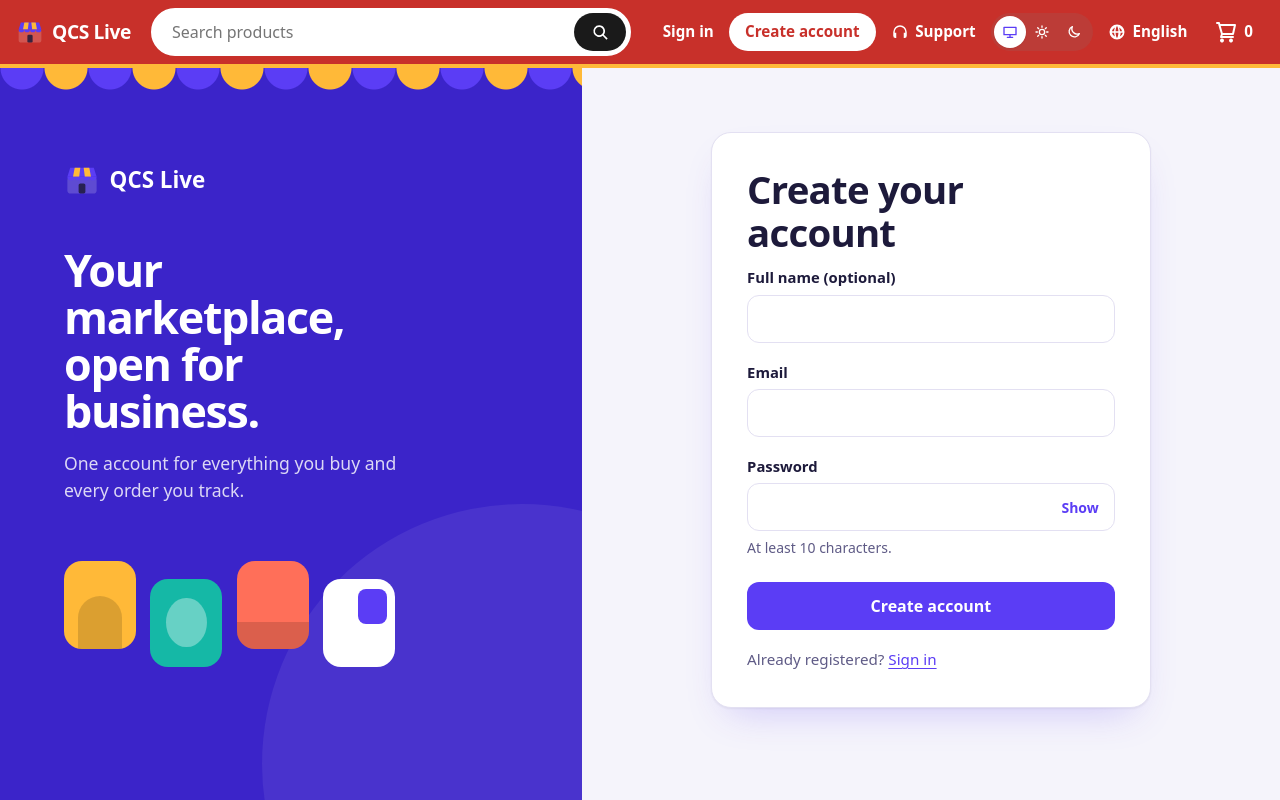
it: registration › shows the check-your-email confirmation on success
The image size is (1280, 800).
Type "jane@example.com" into the field labelled "Email". click: (931, 413)
box: [747,389,1115,437]
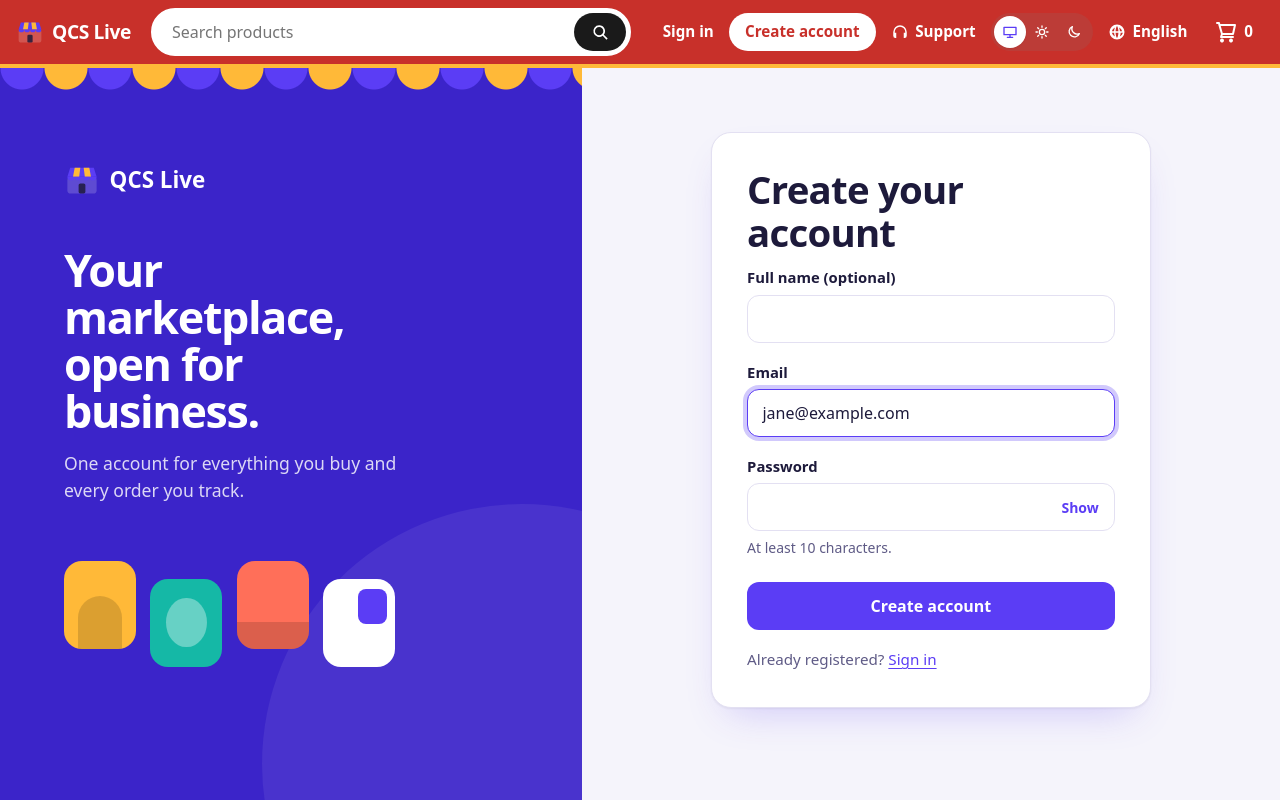
Type "a-reasonably-long-passphrase" into the password field labelled "Password". click: (931, 507)
box: [747,483,1115,531]
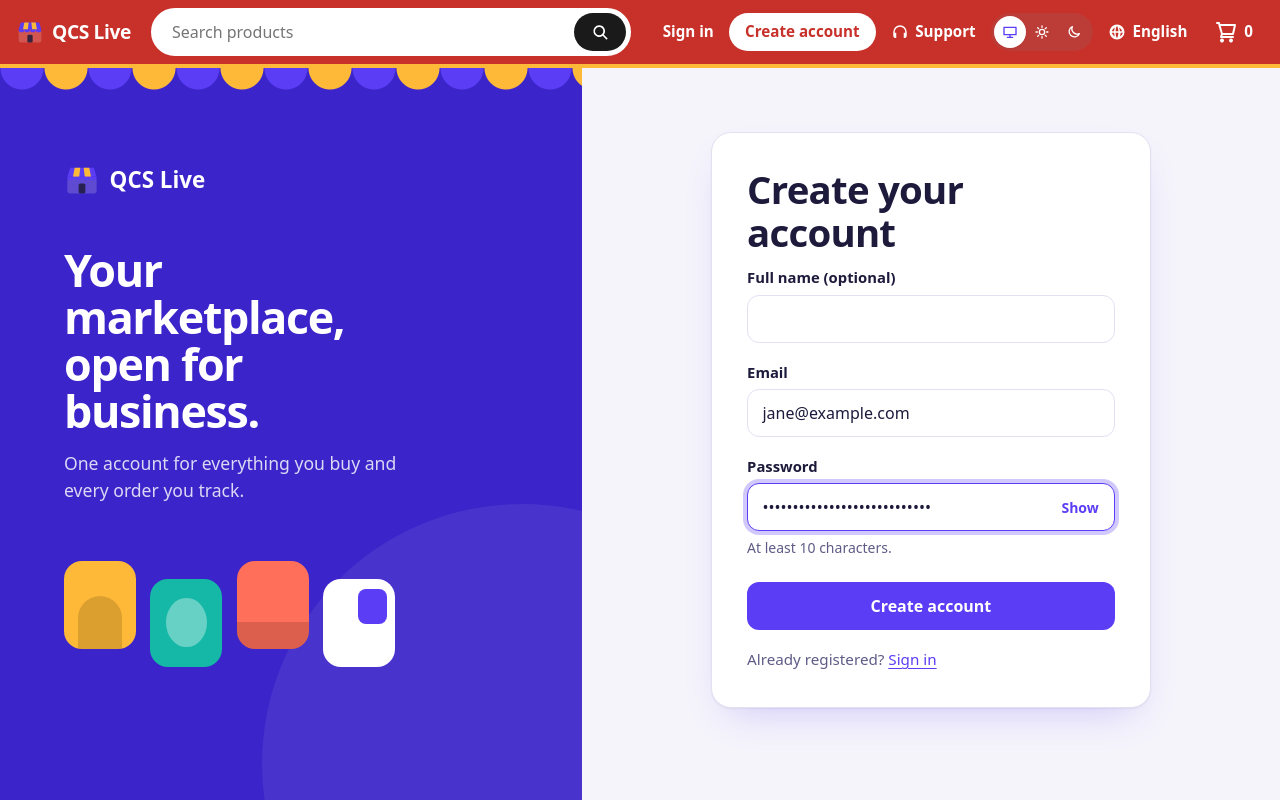
Click the button "Create account". click: (931, 606)
box: [747,582,1115,630]
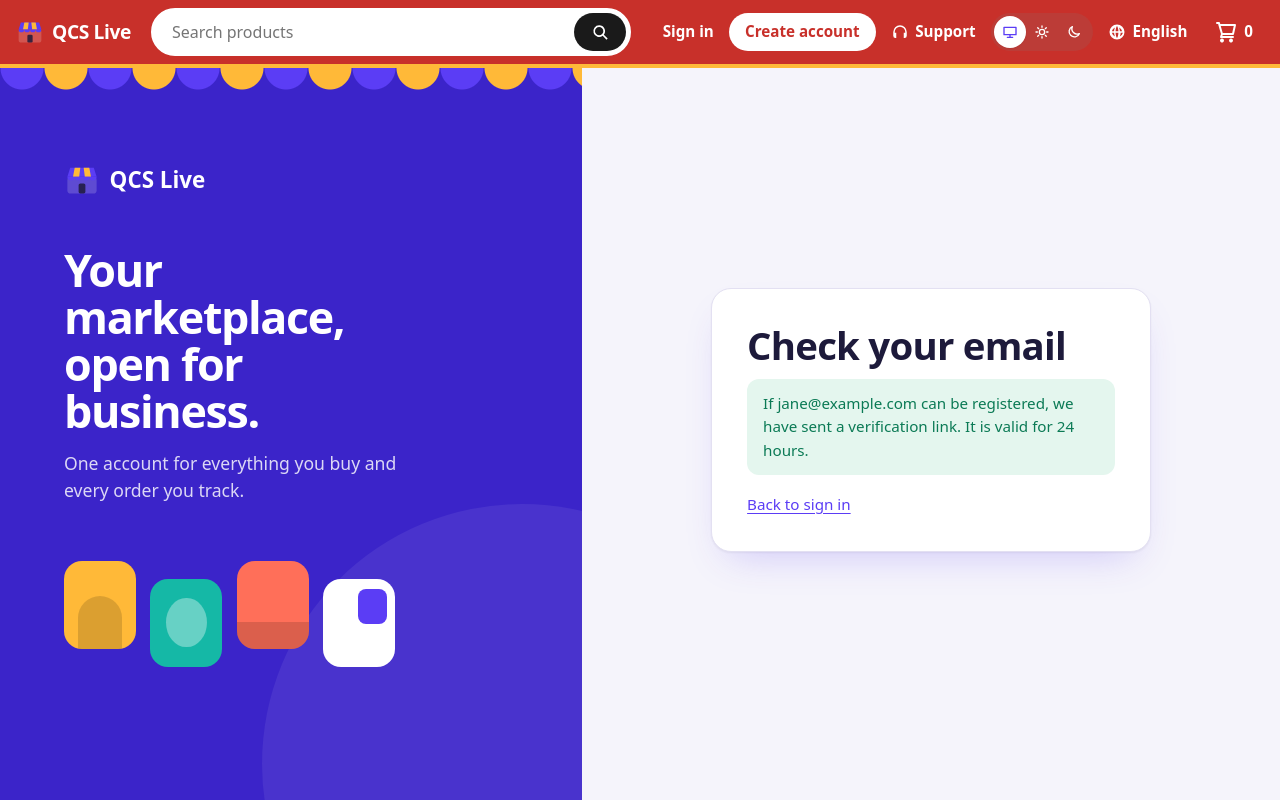
Expected: the heading "Check your email" is shown, [747,324,1115,367]
